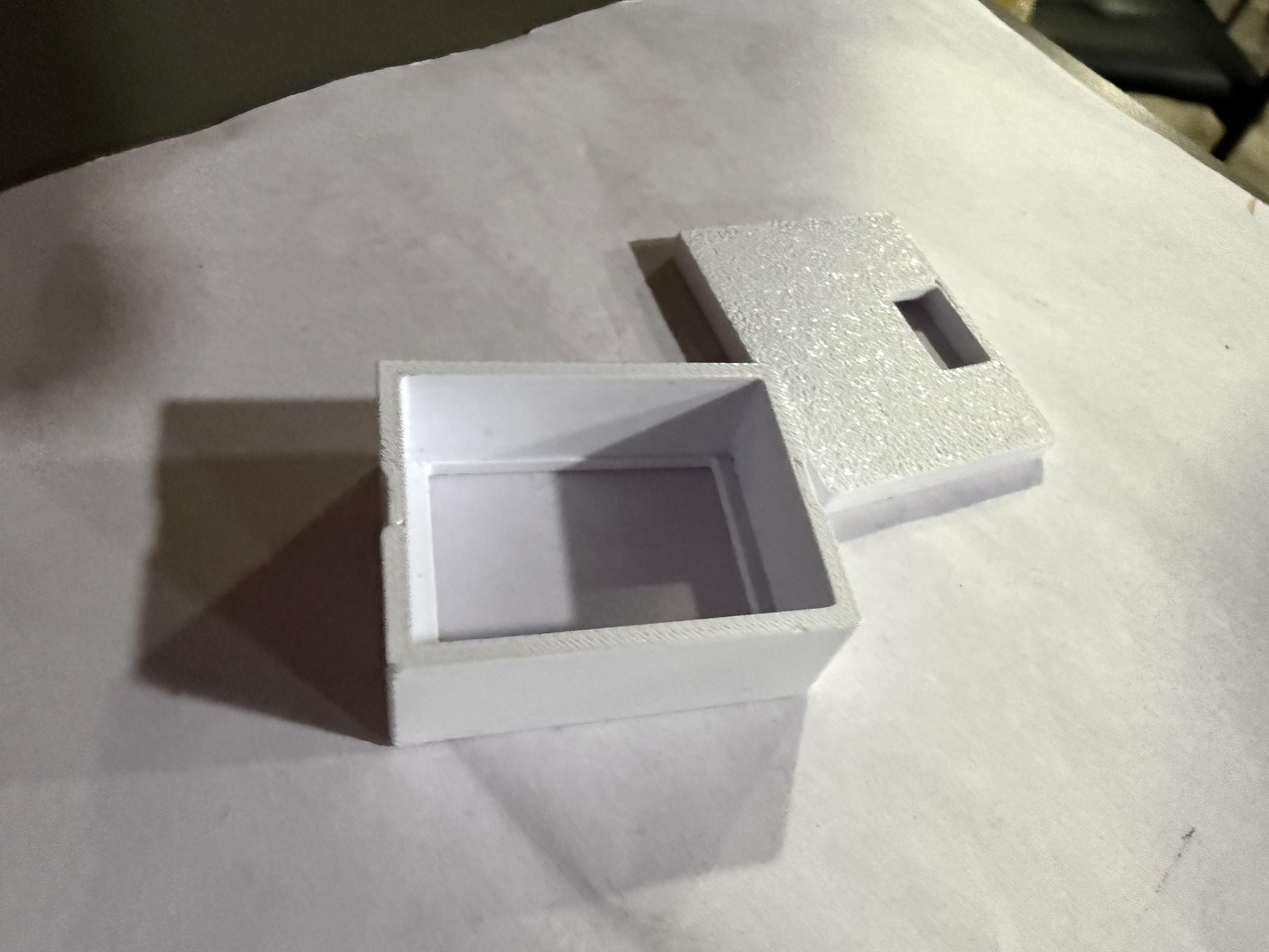enclosure: (377, 360, 862, 747), (670, 205, 1063, 499)
